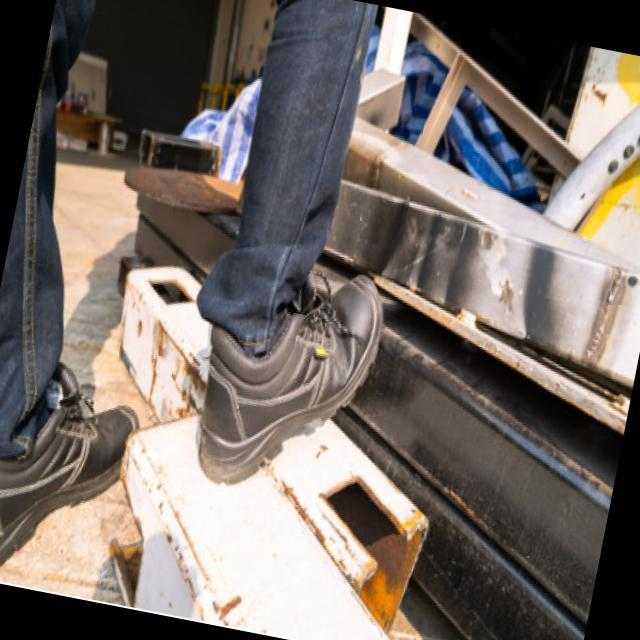boots: (0, 207, 397, 640)
